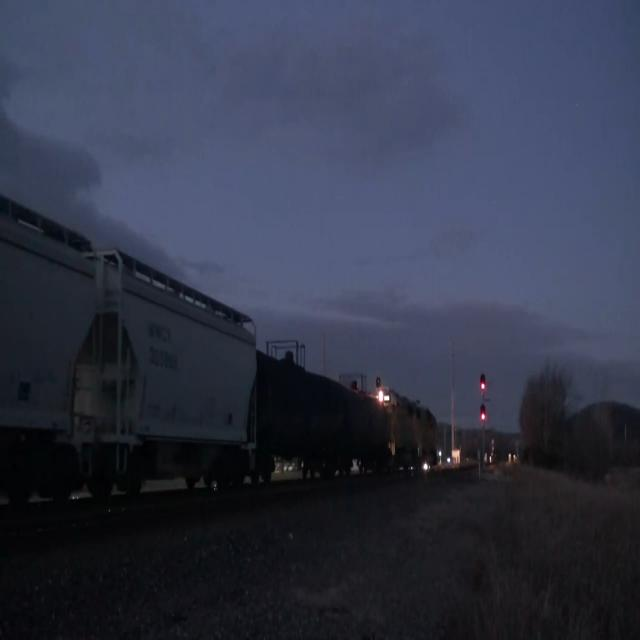hopper: (98, 233, 264, 509), (0, 177, 104, 527)
tank: (252, 334, 344, 504)
